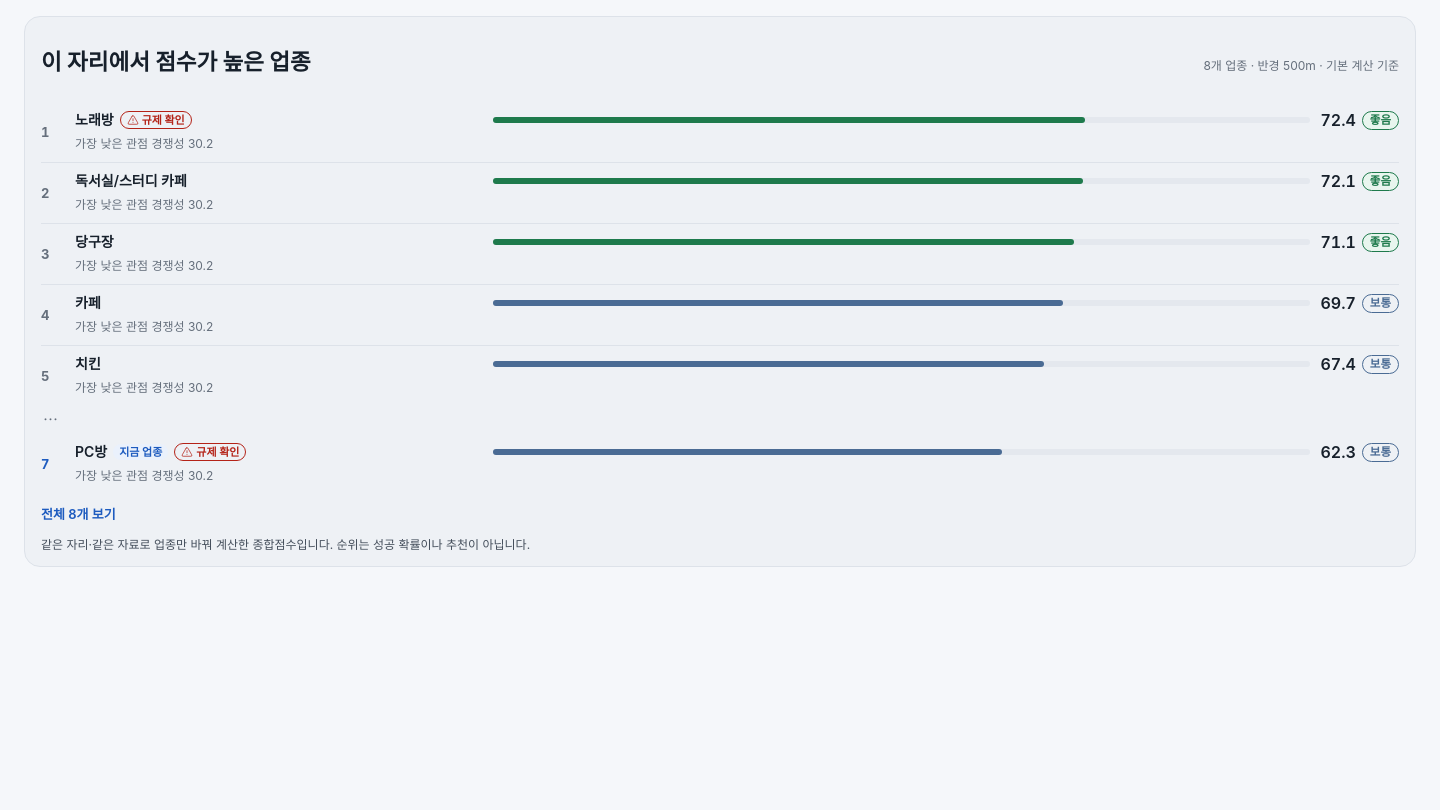
Scenario: RankCard — 이 자리 업종 순위 (13-16, 팀 C1) › "전체 N개 보기"로 29개(여기선 8개) 전부, 미산출은 "산출 불가"로 맨 아래
Step 1. Click the button "전체 8개 보기" → click(78, 514), box [41,502,116,526]
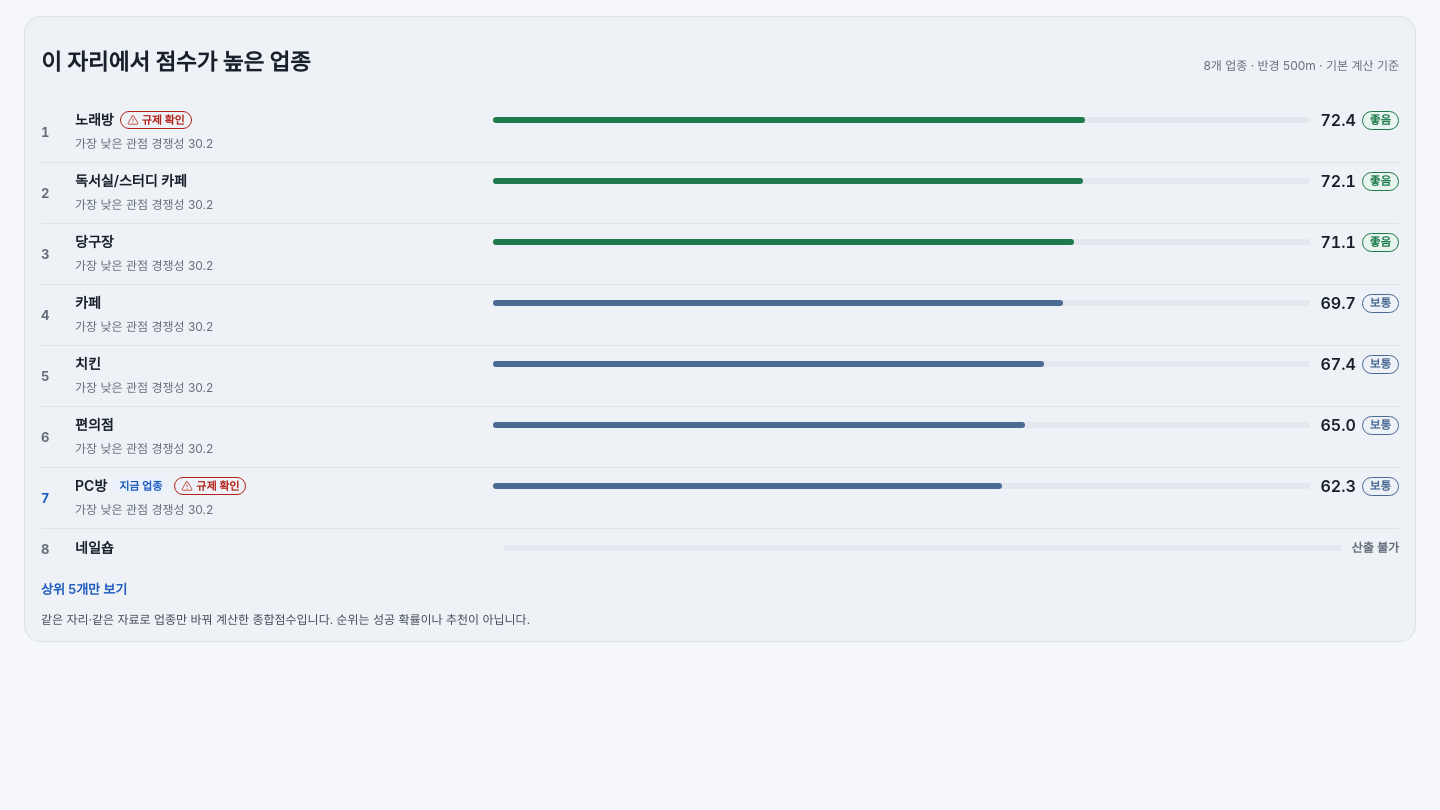
Result: the list item "8 네일숍 산출 불가" is shown at [41,528,1399,569]
Result: the button "상위 5개만 보기" is shown at [41,577,127,601]
